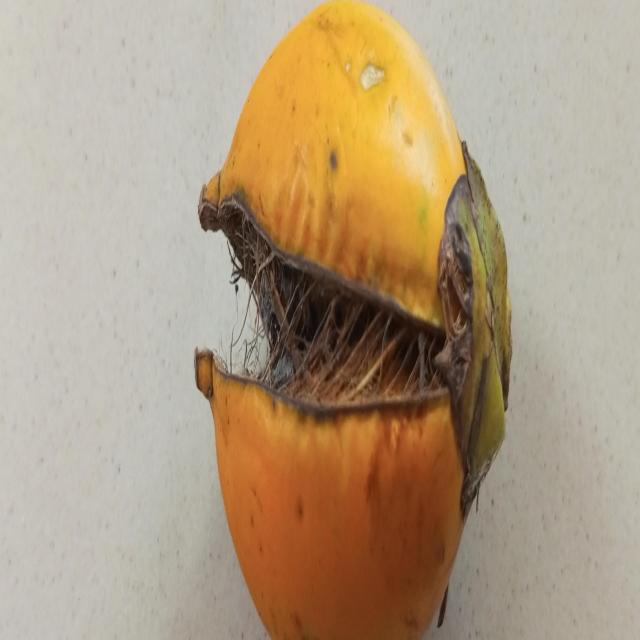damaged: (196, 0, 514, 640)
